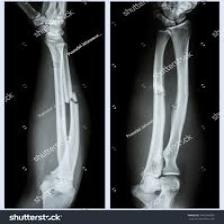comminuted-fracture: (9, 2, 214, 215)
